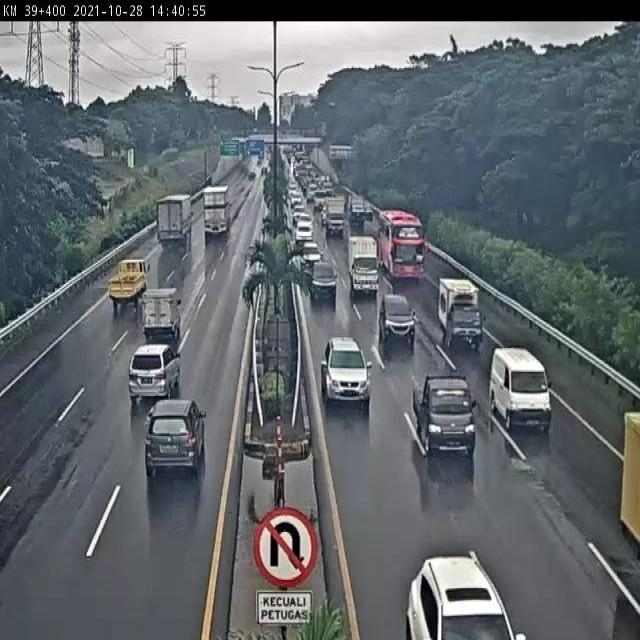bus-l-: (376, 207, 423, 280)
car: (488, 344, 553, 433), (411, 369, 474, 452), (143, 397, 208, 476), (321, 335, 372, 408), (128, 343, 182, 404), (378, 292, 417, 341), (307, 257, 337, 300), (299, 240, 324, 269)
small truck: (105, 254, 150, 310), (133, 295, 177, 349)
truck-m-: (346, 231, 379, 293)
truck-s-: (436, 276, 484, 349)
